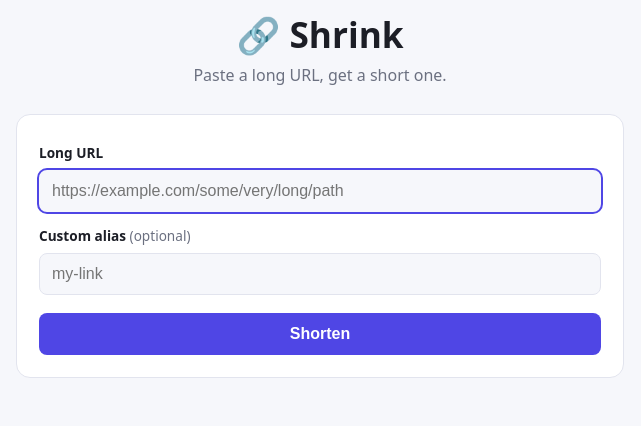
it: App › validates empty input without calling the API
Click the button "Shorten" at (320,334), box x1=39 y1=313 x2=601 y2=355
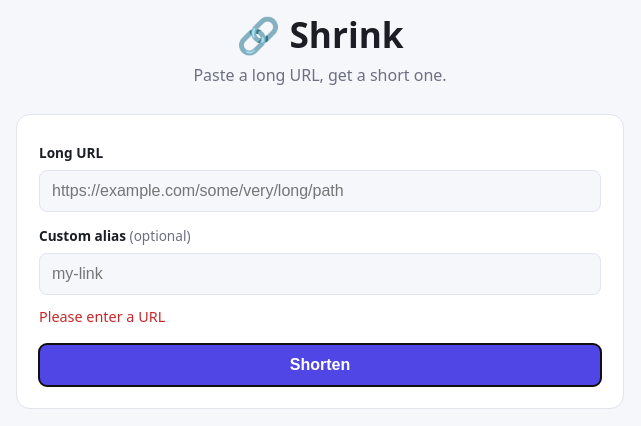
Check: the message shows "enter a URL", box x1=39 y1=307 x2=165 y2=326
